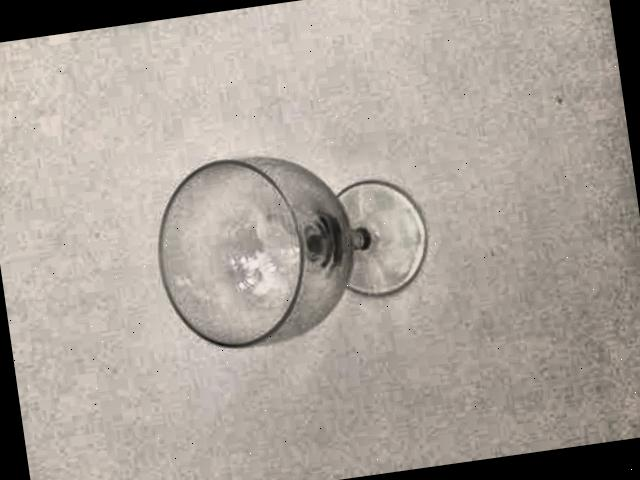Almennt: (136, 117, 455, 368)
